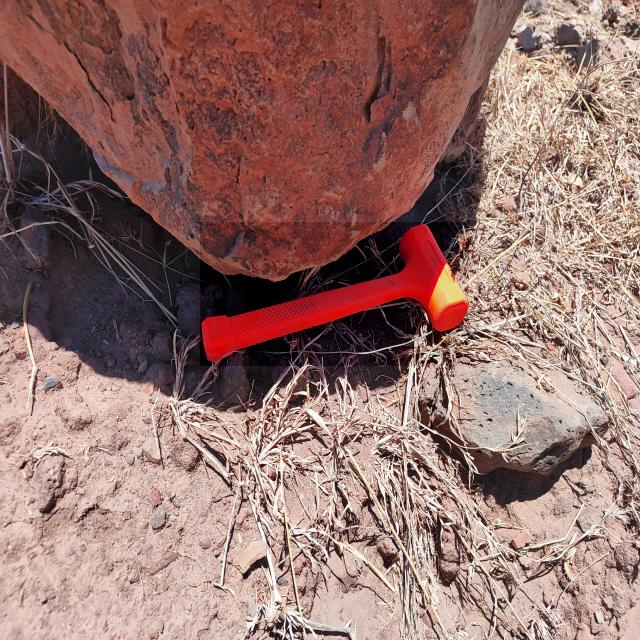Orange_hammer: (200, 222, 469, 366)
